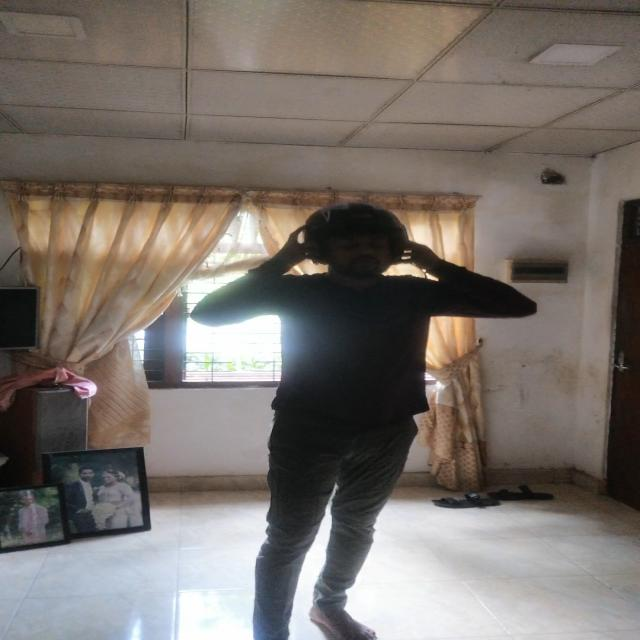Helmet_Wearer: (286, 197, 430, 284)
Person: (215, 193, 501, 625)
